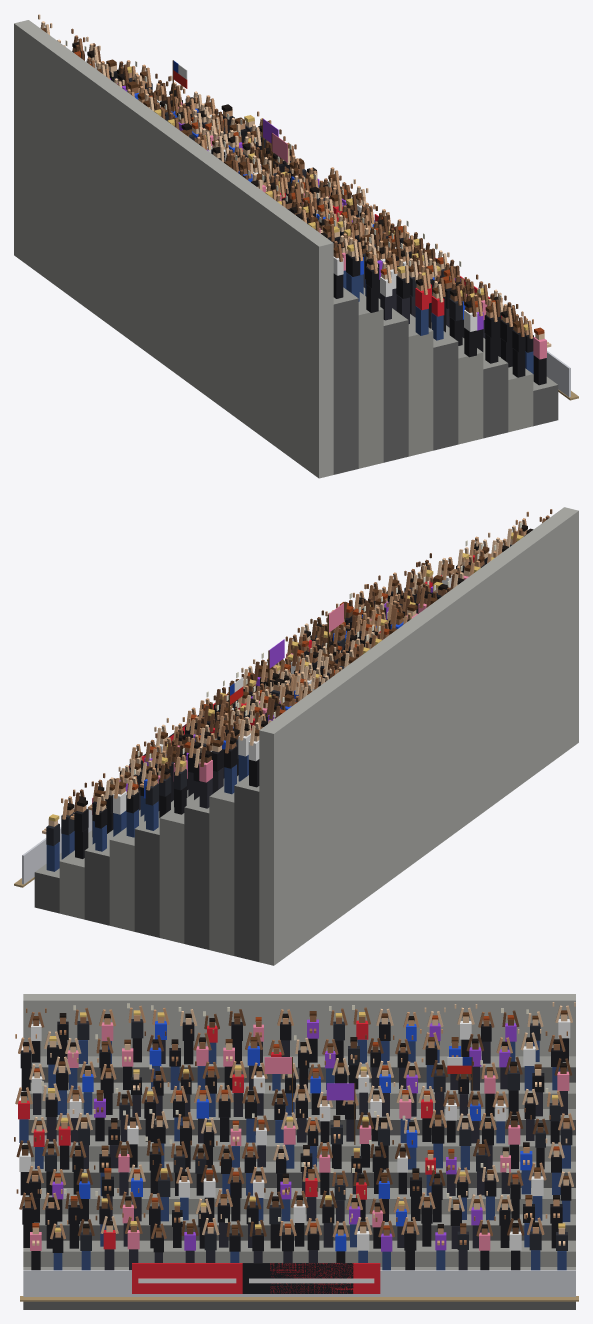
Rendered from hinchada_estadio_2.obj.
3 views of the same model, one above another, from view 1: azimuth 30°, elevation 25°; view 2: azimuth 150°, elevation 25°; view 3: azimuth 270°, elevation 25° (orthographic). The views are drawn at different scales.
Parts seen in each view (by area): view 1: hinchada_estadio_2; view 2: hinchada_estadio_2; view 3: hinchada_estadio_2.
Boxes of the visible parts, x1,y1,x2,y2 form: hinchada_estadio_2: (14, 14, 578, 478); hinchada_estadio_2: (14, 507, 578, 965); hinchada_estadio_2: (14, 994, 578, 1309).
Size of the model in its own units: 8.8 by 7.64 by 18.4.
